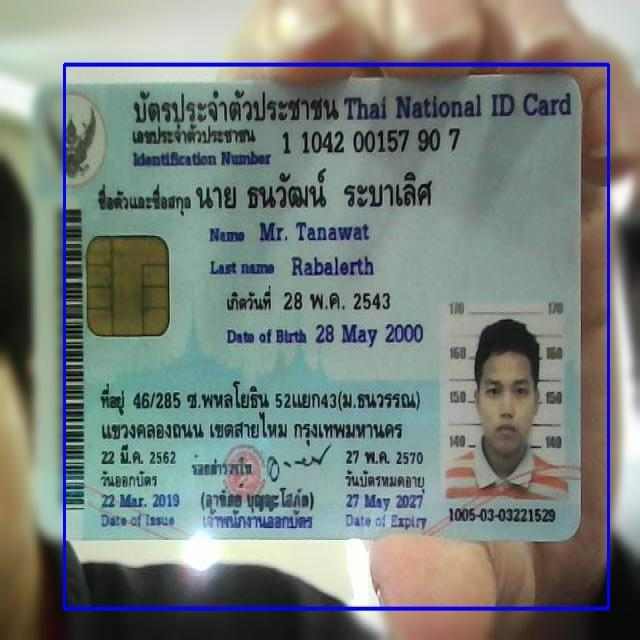Address_th: (91, 373, 427, 448)
Date_of_Birth: (311, 316, 428, 351)
Date_of_Expiry: (340, 486, 430, 516)
Date_of_Issue: (96, 486, 189, 514)
First_Name: (254, 214, 373, 249)
ID_Number: (277, 123, 467, 159)
Image: (440, 301, 565, 504)
Last_Name: (287, 252, 379, 282)
Thai_Name: (192, 165, 445, 221)
